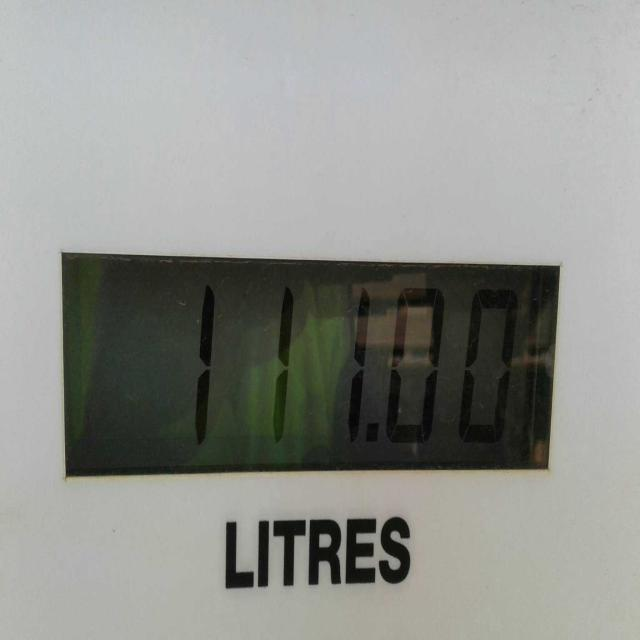.: (360, 412, 383, 461)
0: (446, 278, 532, 470), (378, 275, 449, 450)
1: (177, 268, 239, 455), (323, 283, 383, 451), (256, 261, 308, 450)
